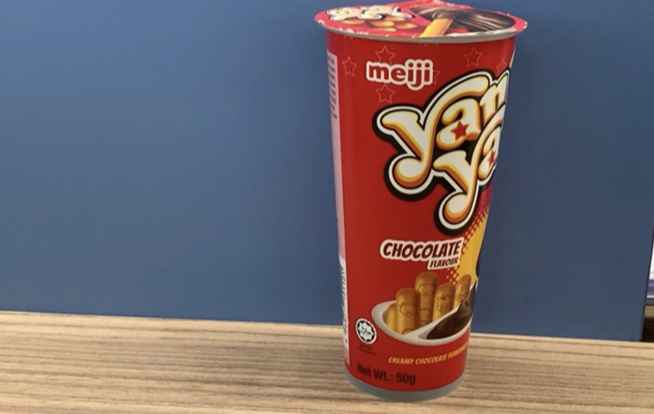cookies_50g: (344, 51, 459, 390)
